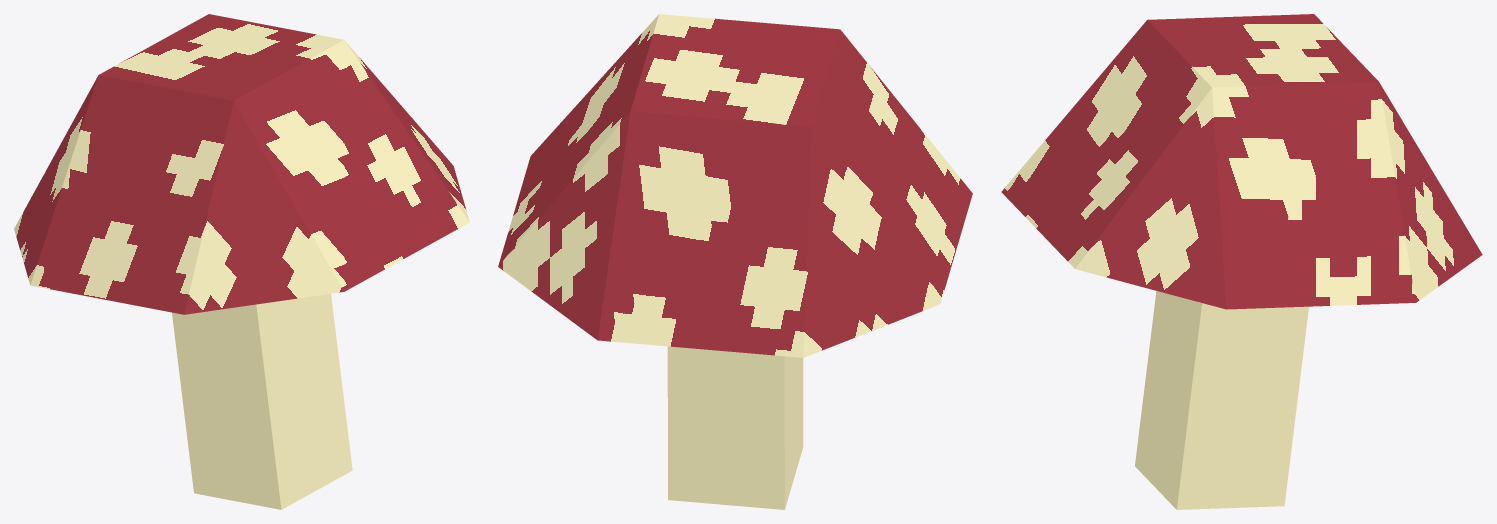
File: mushroom.glb
3 renders of one model, left to right at view 1: azimuth 30°, elevation 25°; view 2: azimuth 150°, elevation 25°; view 3: azimuth 270°, elevation 25°, orthographic. The views are drawn at different scales.
Parts seen in each view (by area): view 1: mushroom; view 2: mushroom; view 3: mushroom.
Part boxes in pixels (x1,y1,x2,y2): mushroom: [14, 14, 469, 509]; mushroom: [498, 14, 972, 509]; mushroom: [1001, 14, 1482, 509].
Size of the model in its own units: 0.2621 by 0.2648 by 0.2611.
Materials: 1 (1 with a texture image).
